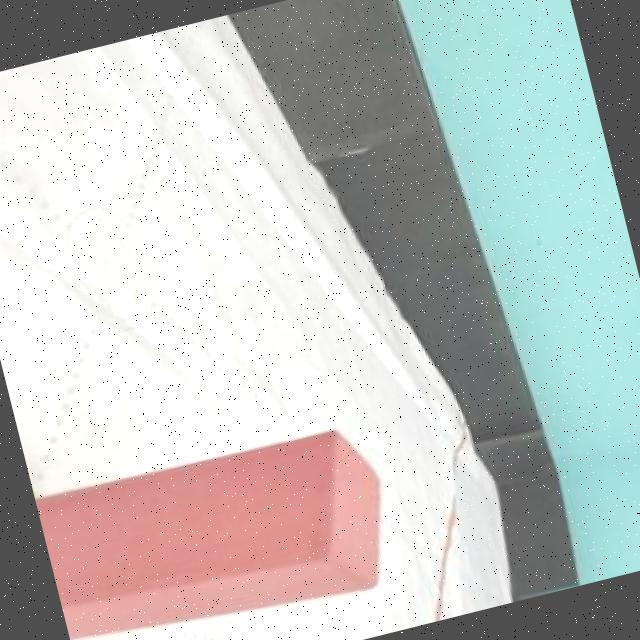redbox: (33, 412, 405, 640)
